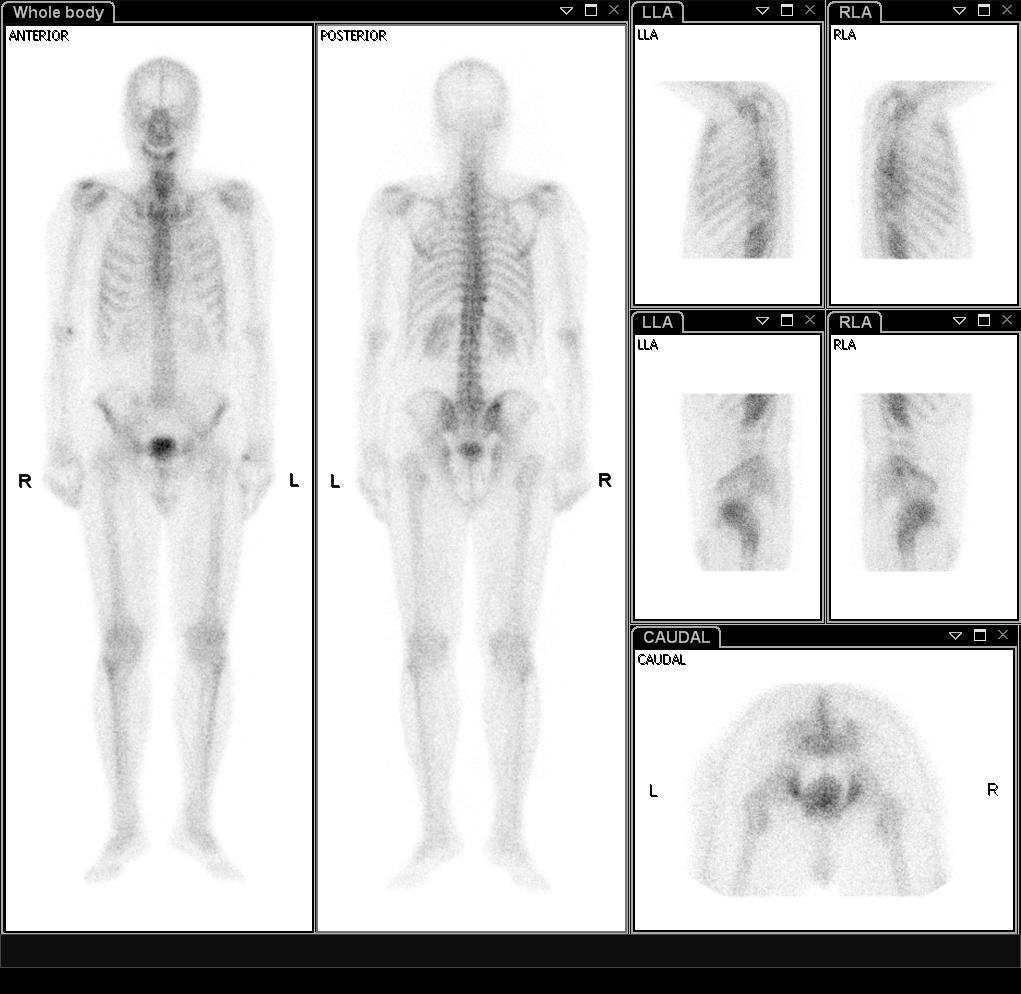person: (4, 25, 630, 931)
